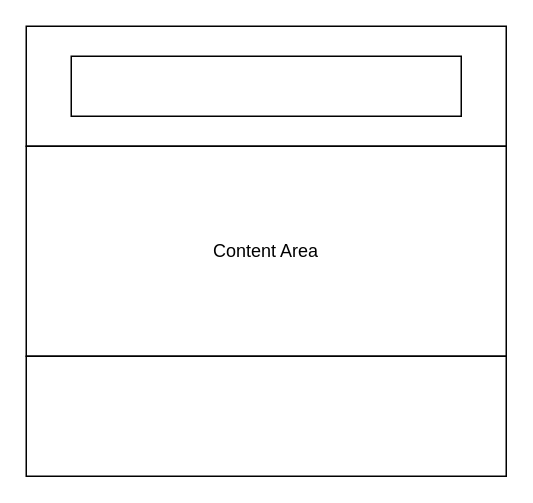
Some shapes in this 533 by 503 pixel diagram are drawn without their labels. The shapes that lost their labels are listed below. From the top down, each one's centre as x and y in pixels, then its label:
At pixel 265 85: "Navigation Bar".
At pixel 265 415: "Footer".
